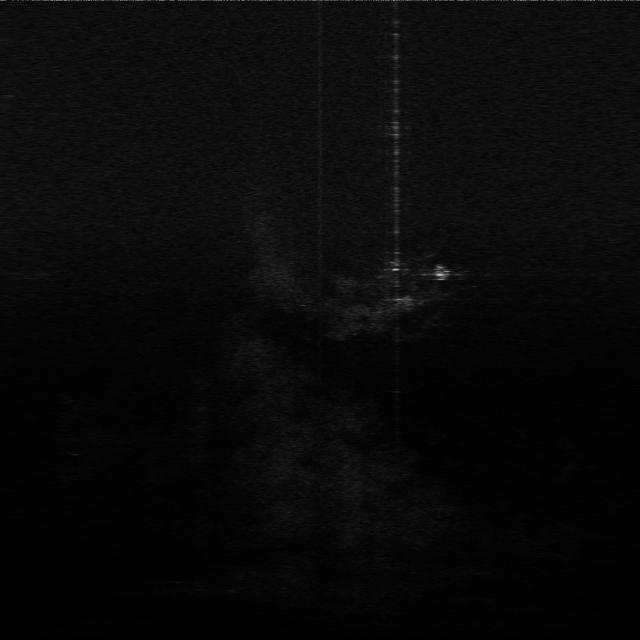rov: (426, 262, 453, 284)
